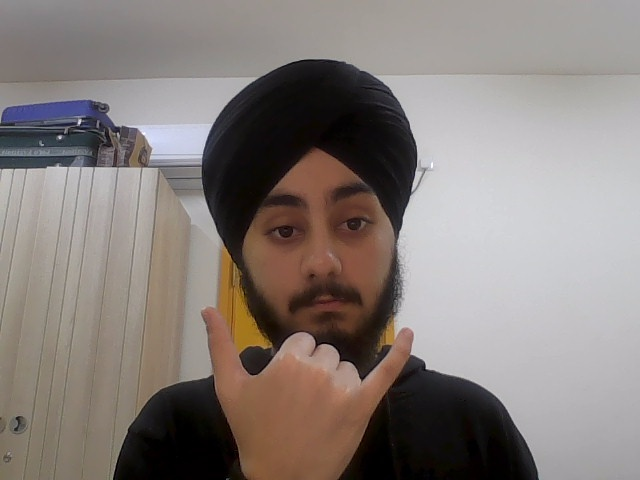Wrong: (196, 304, 426, 480)
